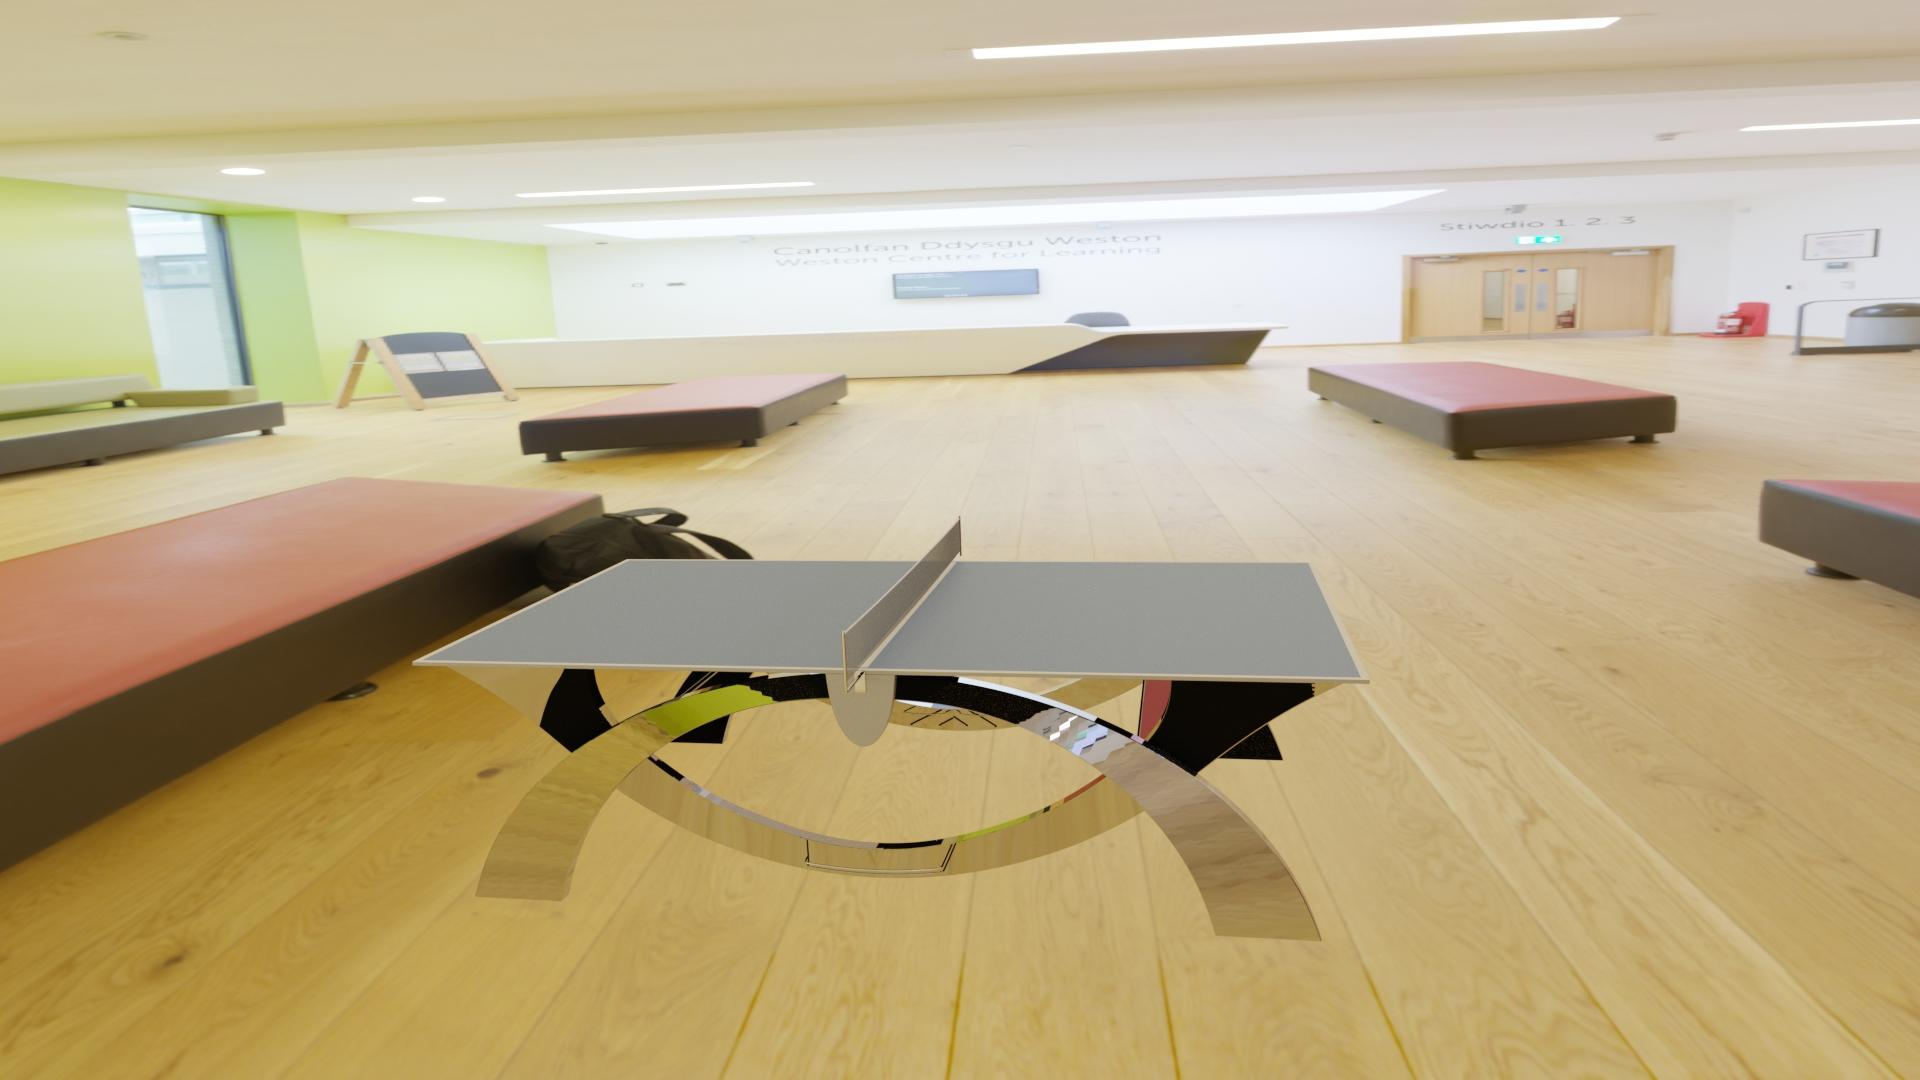table: (422, 560, 1361, 678)
